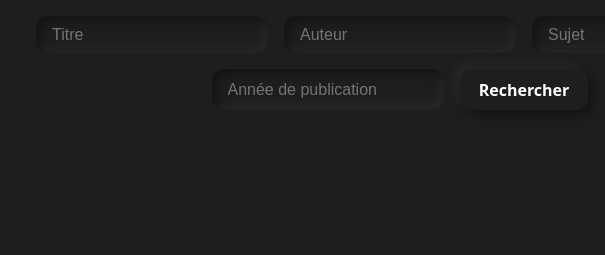
Test case: AdvancedSearch › effectue une recherche et affiche les résultats
# Simule la saisie du titre
Type "Test Book" into the field with placeholder "Titre".
click(152, 35); type("Test Book")  # box [36, 16, 268, 53]
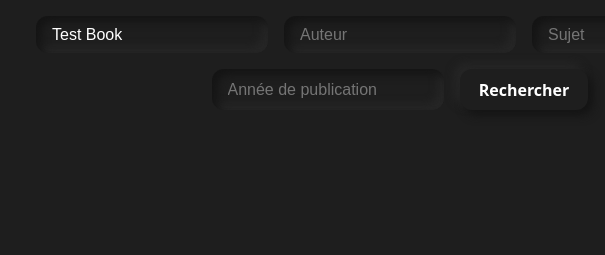
# Clique sur le bouton "Rechercher"
Click the button "Rechercher".
click(524, 90)  # box [460, 69, 588, 110]
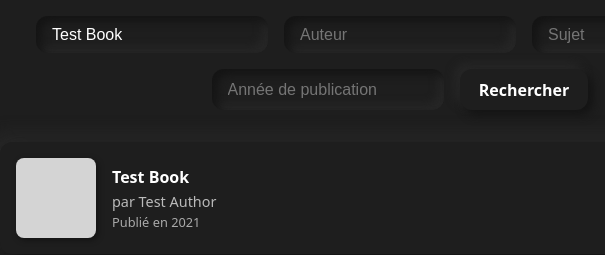
Expected: the text "Test Book" is shown, [112, 166, 189, 188]
Expected: the text "par Test Author" is shown, [112, 192, 216, 211]
Expected: the text "Publié en 2021" is shown, [112, 213, 200, 231]
